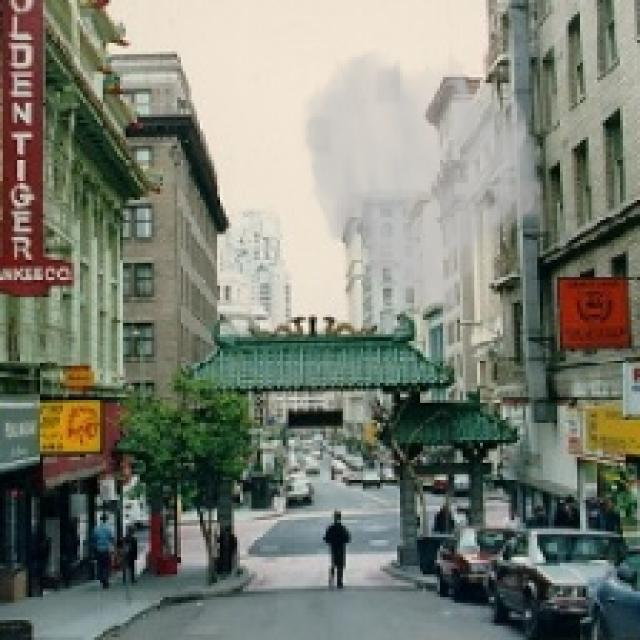Smoke: (300, 46, 549, 326)
